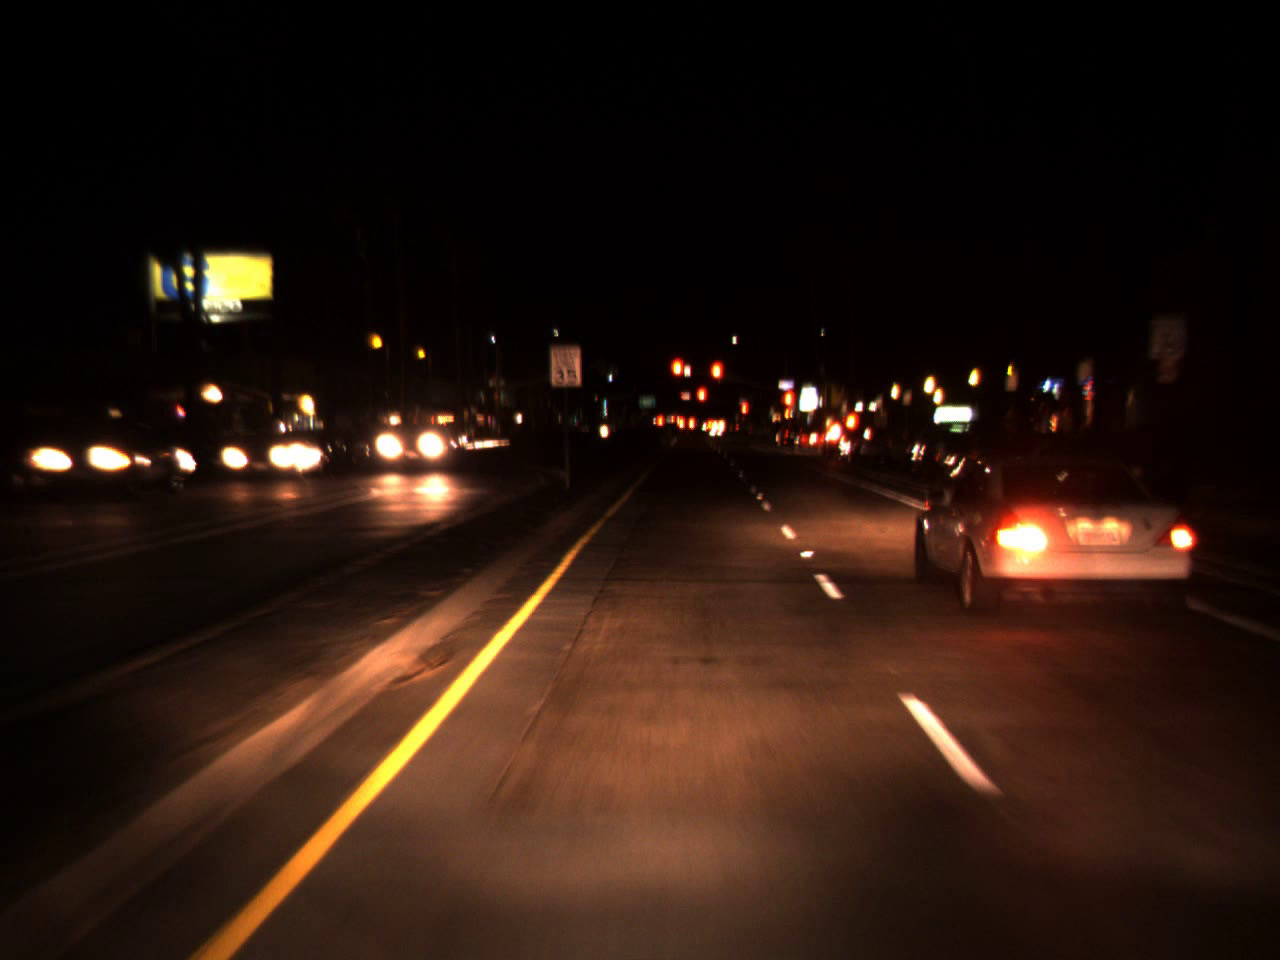stop: (667, 354, 688, 399), (708, 359, 724, 399), (694, 384, 707, 419), (740, 399, 749, 431), (784, 391, 791, 418)
